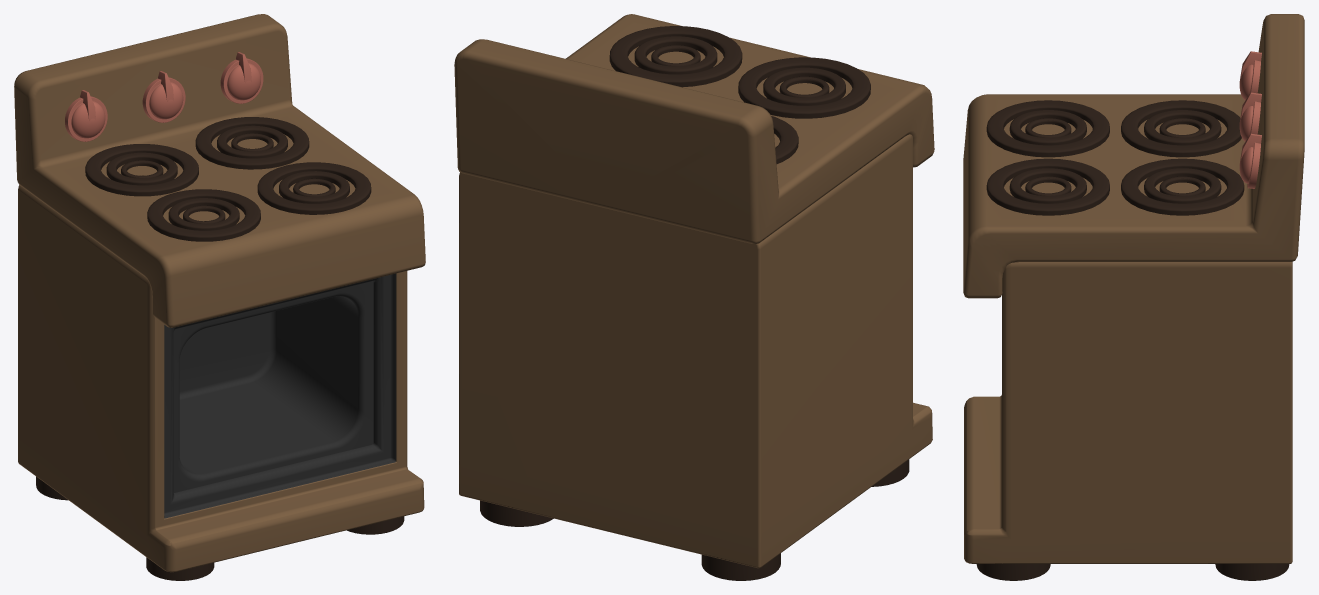
The model's file is SM_Oven_01_Base.fbx.
3 renders of one model, left to right at view 1: azimuth 30°, elevation 25°; view 2: azimuth 150°, elevation 25°; view 3: azimuth 270°, elevation 25°, orthographic. The views are drawn at different scales.
Visible parts, largest first — view 1: Cube.046, Cube.044, Cube.045, Cylinder.009, Cylinder.010, Sphere.004, Sphere.005, Sphere.006; view 2: Cube.046, Cube.044, Cylinder.009, Cylinder.010; view 3: Cube.046, Cube.044, Cylinder.009, Cylinder.010, Sphere.005, Sphere.004, Sphere.006.
Boxes of the visible parts, x1=… form: Cube.046: x1=18, y1=185, x2=424, y2=572; Cube.044: x1=14, y1=14, x2=425, y2=327; Cube.045: x1=173, y1=281, x2=373, y2=492; Cylinder.009: x1=85, y1=117, x2=371, y2=241; Cylinder.010: x1=36, y1=476, x2=404, y2=580; Sphere.004: x1=142, y1=71, x2=185, y2=122; Sphere.005: x1=220, y1=52, x2=263, y2=103; Sphere.006: x1=65, y1=90, x2=107, y2=141; Cube.046: x1=459, y1=134, x2=932, y2=568; Cube.044: x1=454, y1=14, x2=934, y2=243; Cylinder.009: x1=609, y1=26, x2=870, y2=163; Cylinder.010: x1=480, y1=459, x2=909, y2=580; Cube.046: x1=964, y1=261, x2=1292, y2=563; Cube.044: x1=963, y1=14, x2=1304, y2=298; Cylinder.009: x1=986, y1=100, x2=1244, y2=215; Cylinder.010: x1=976, y1=564, x2=1289, y2=580; Sphere.005: x1=1239, y1=133, x2=1261, y2=188; Sphere.004: x1=1239, y1=92, x2=1261, y2=141; Sphere.006: x1=1239, y1=51, x2=1261, y2=100.
Size of the model in its own units: 99.78 by 149 by 105.
